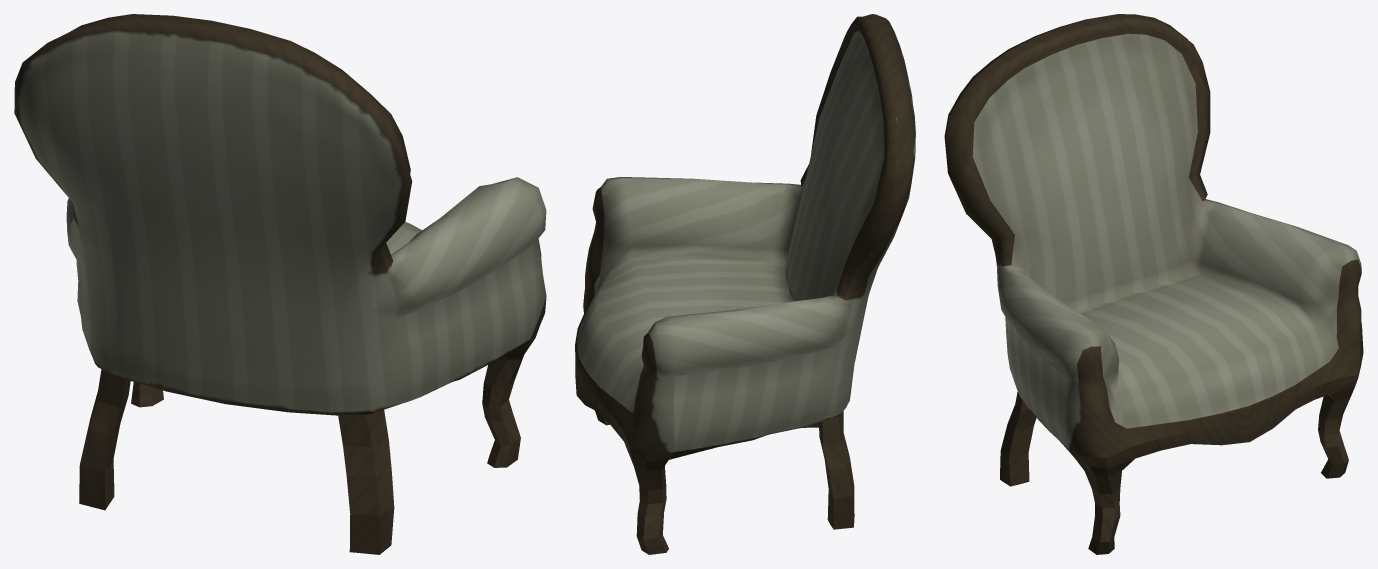
The model's file is Chair.fbx.
3 views of the same model, side by side, from view 1: azimuth 30°, elevation 25°; view 2: azimuth 150°, elevation 25°; view 3: azimuth 270°, elevation 25° (orthographic). The views are drawn at different scales.
Visible parts, largest first — view 1: armchair; view 2: armchair; view 3: armchair.
Boxes of the visible parts, left/top/right/bottom form: armchair: left=14, top=14, right=546, bottom=554; armchair: left=575, top=14, right=915, bottom=554; armchair: left=944, top=14, right=1363, bottom=554.
Bounding box in the file's own units: 36.58 × 40.17 × 37.72.
